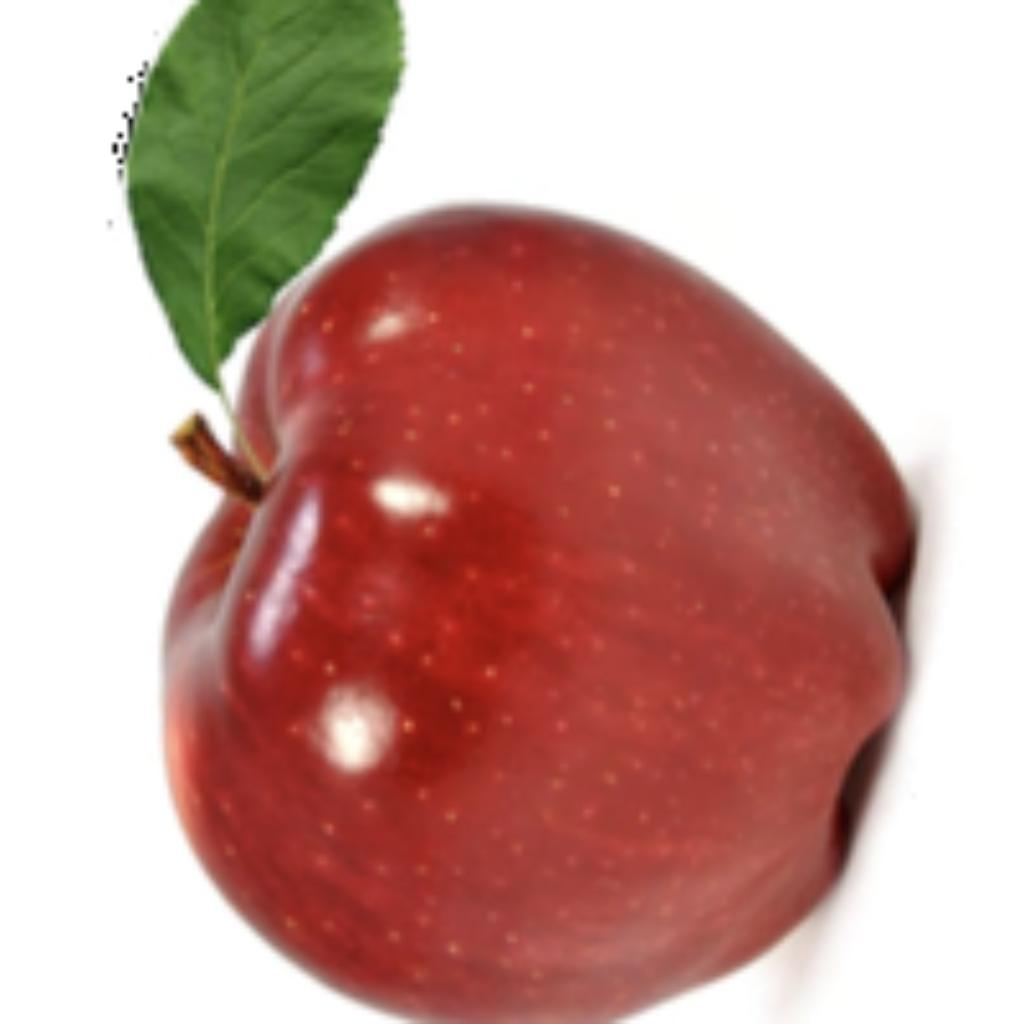apple: (102, 0, 957, 1019)
